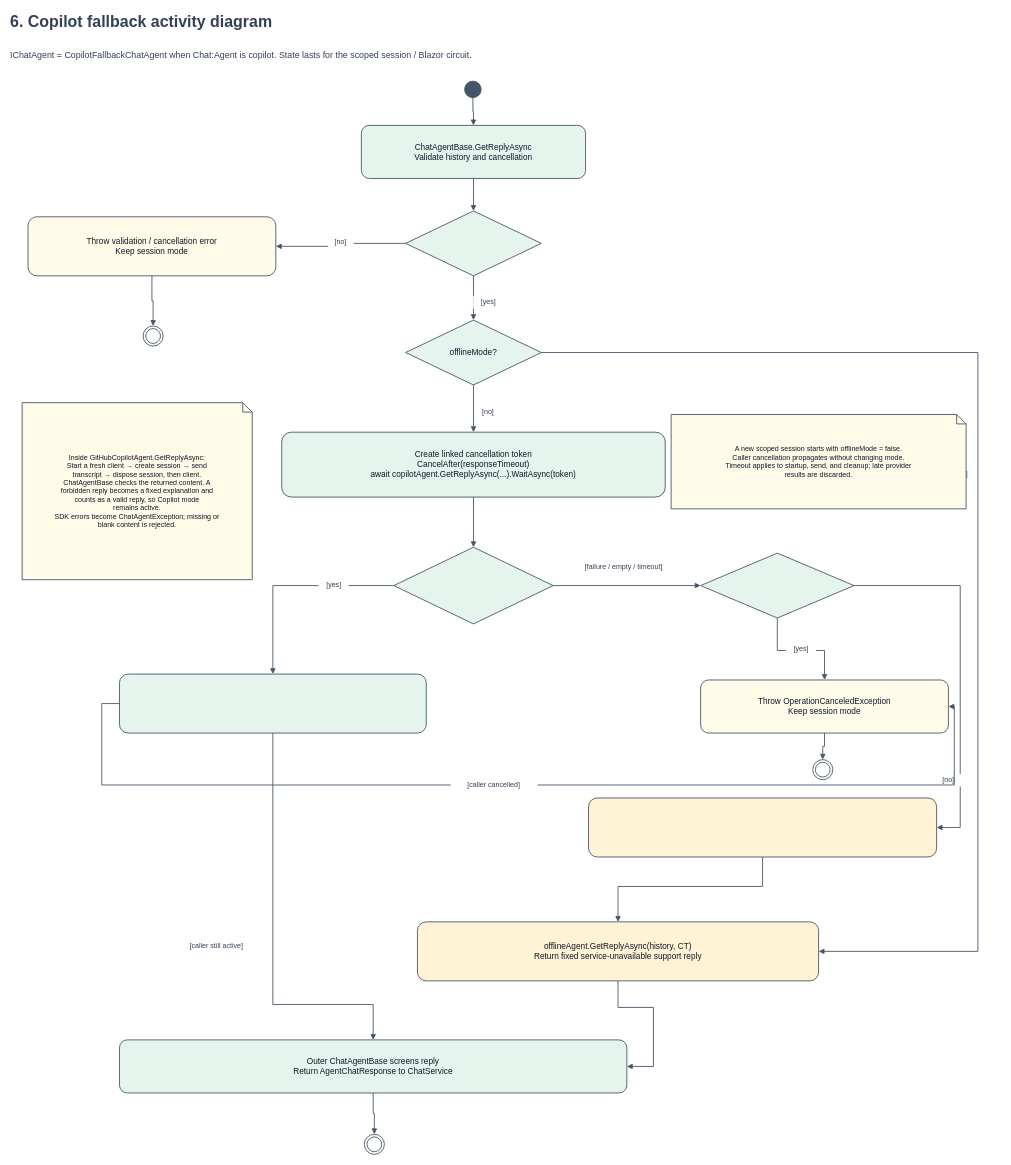
Some shapes in this 1011 by 1165 pixel diagram are drawn without their labels. Each missing label, with the centre of its shape:
Caller cancelled?: pixel 777 585
Check caller cancellation Return screened Copilot response: pixel 272 703
offlineMode = true Log failure type; stay offline for this session: pixel 762 827
Request returned a valid reply?: pixel 473 585
Valid request?: pixel 473 243
